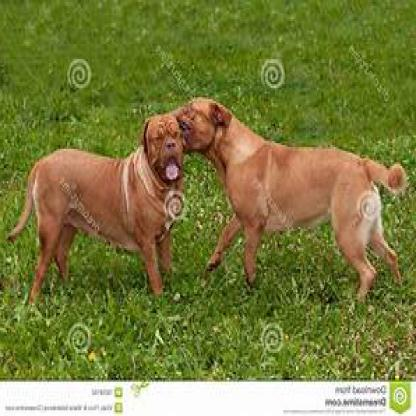dog: (176, 98, 406, 302), (7, 112, 183, 304)
